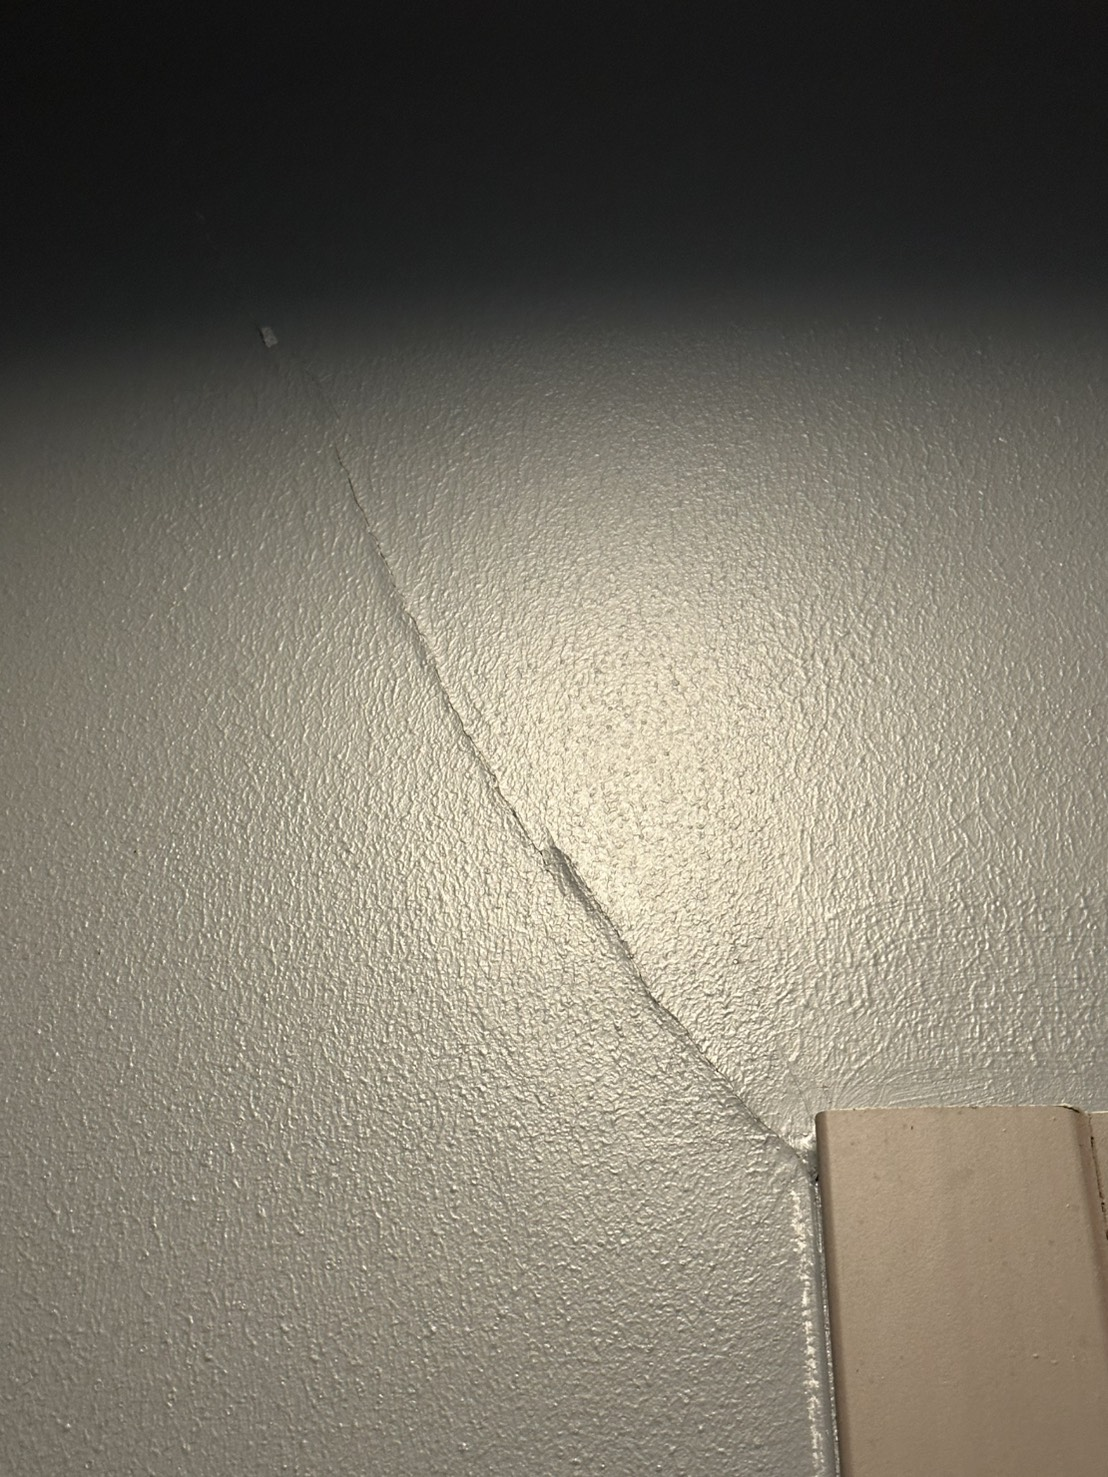Low: (269, 294, 879, 1316)
